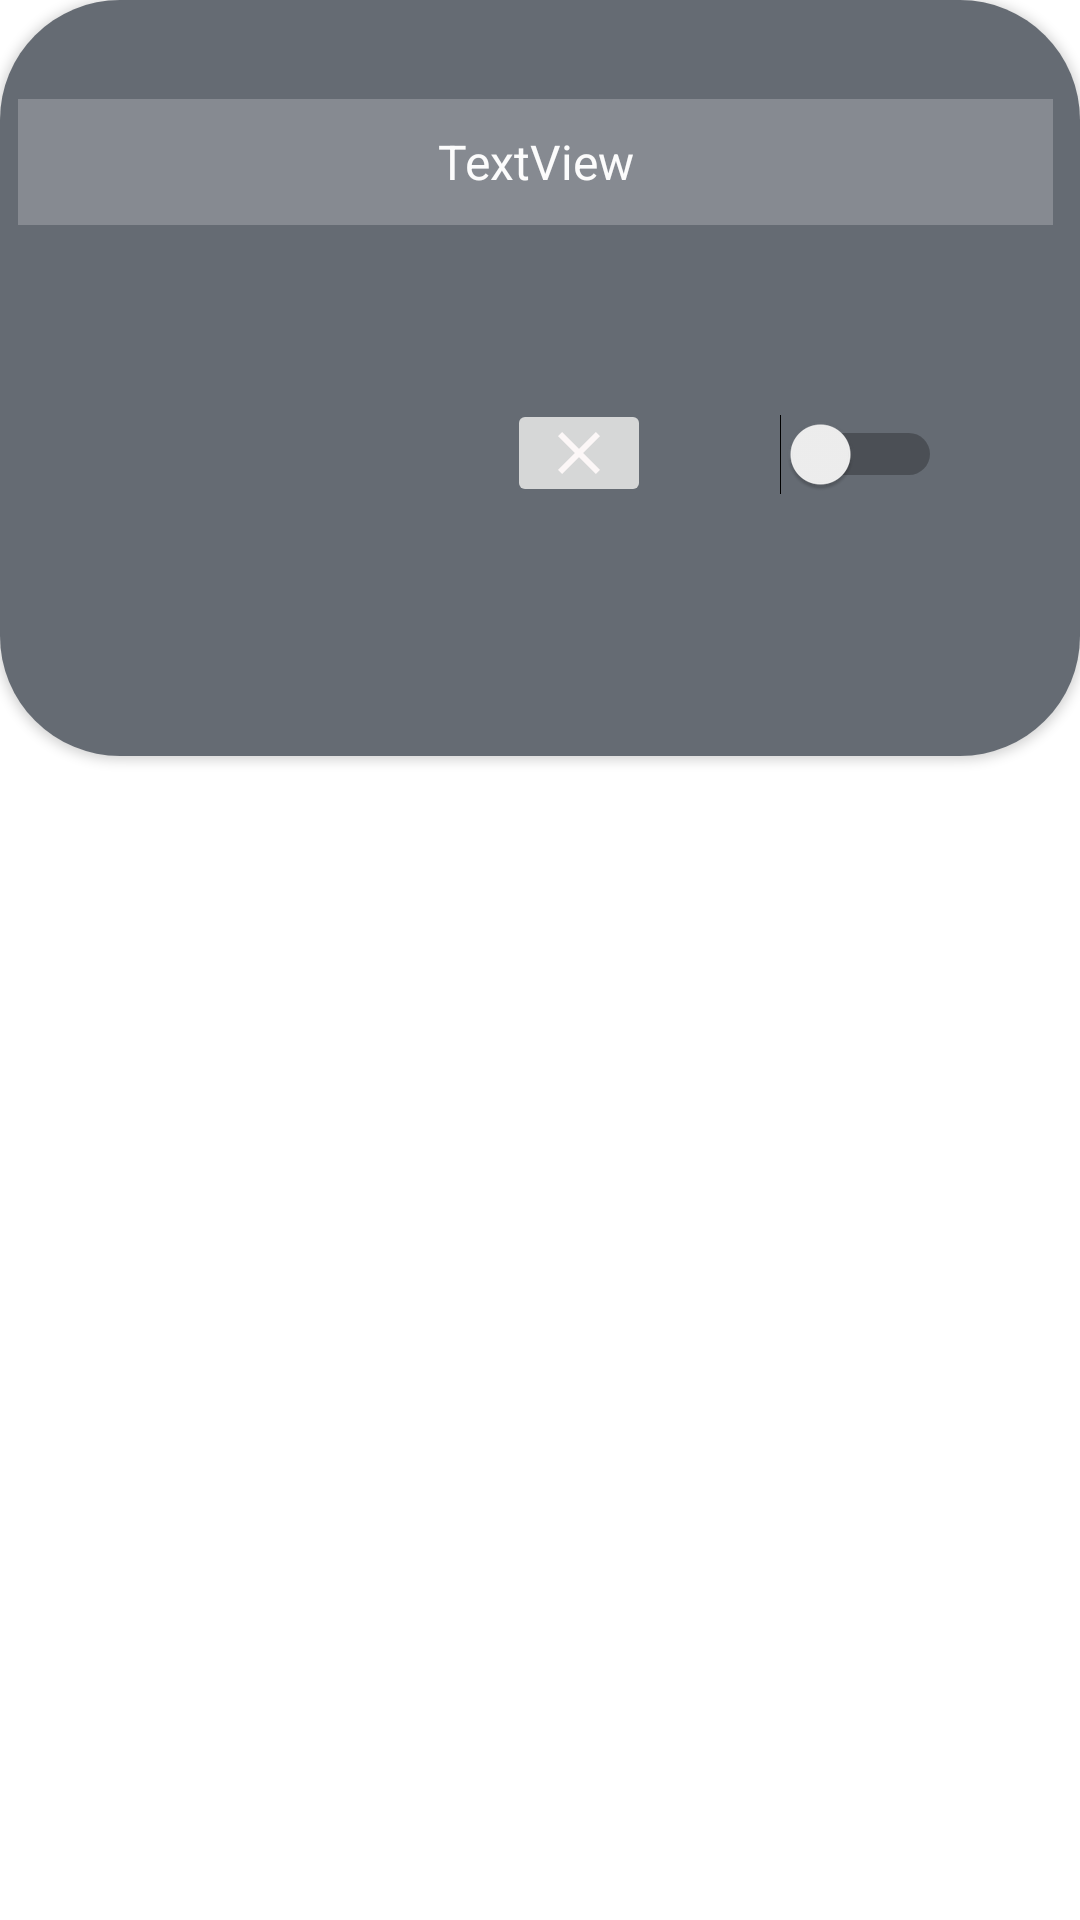

Where to tap for icons on this 1080*1920 app screen, as (x=x, y=y):
clear: (x=579, y=453)
